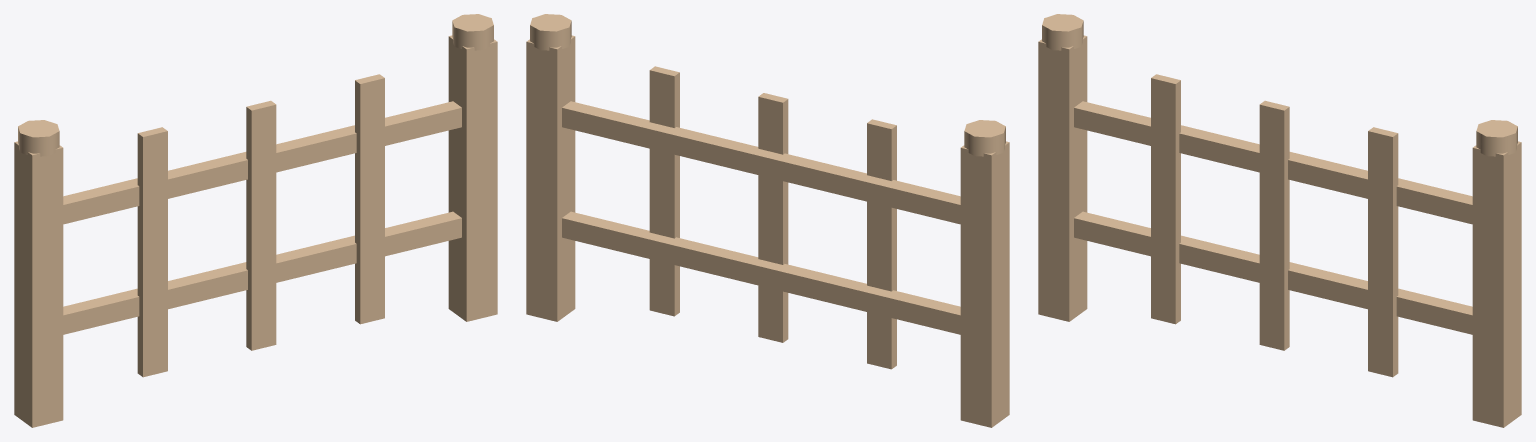
The model's file is garden_fence.glb.
3 renders of one model, left to right at view 1: azimuth 30°, elevation 25°; view 2: azimuth 150°, elevation 25°; view 3: azimuth 330°, elevation 25°, orthographic.
Parts seen in each view (by area): view 1: GardenFence; view 2: GardenFence; view 3: GardenFence.
Boxes of the visible parts, x1,y1,x2,y2 form: GardenFence: [14, 14, 497, 427]; GardenFence: [526, 14, 1009, 427]; GardenFence: [1038, 14, 1521, 427].
Size of the model in its own units: 1.52 by 0.89 by 0.12.
